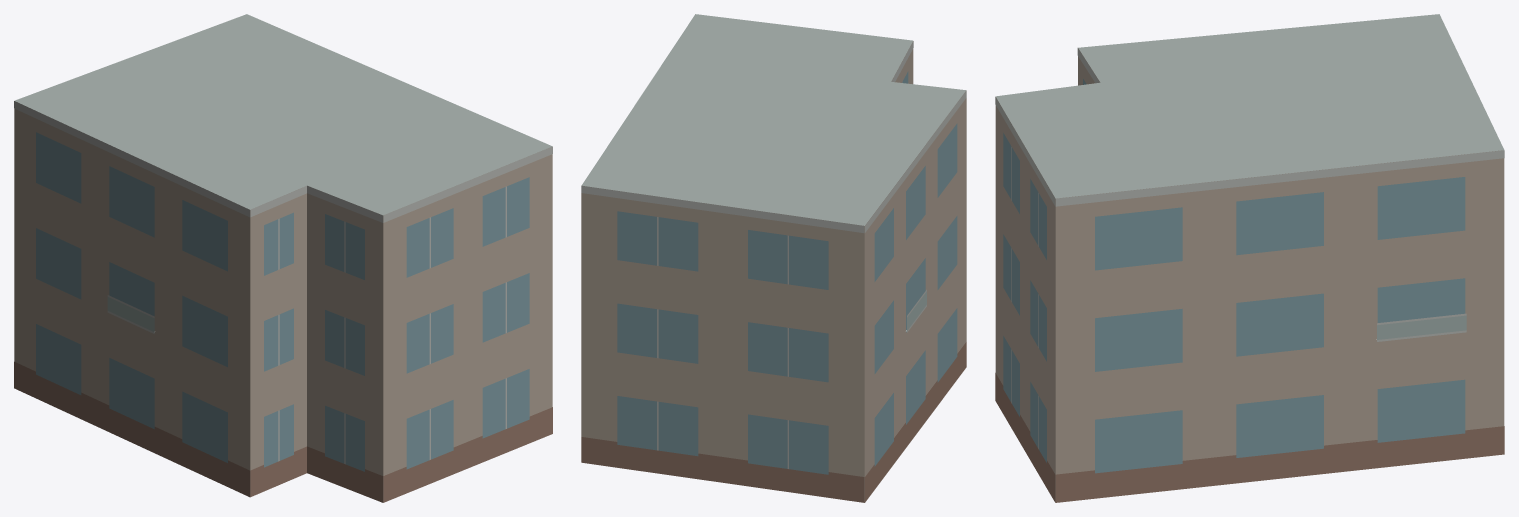
File: residential-b4a7fdfd-9202-4bb8-8a11-c3450bda555b.glb
The picture shows the model from 3 angles, left to right: view 1: azimuth 30°, elevation 25°; view 2: azimuth 150°, elevation 25°; view 3: azimuth 270°, elevation 25°; orthographic projection. The views are drawn at different scales.
Parts seen in each view (by area): view 1: residential-b4a7fdfd-9202-4bb8-8a11-c3450bda555b.tmp; view 2: residential-b4a7fdfd-9202-4bb8-8a11-c3450bda555b.tmp; view 3: residential-b4a7fdfd-9202-4bb8-8a11-c3450bda555b.tmp.
Boxes of the visible parts, x1=… form: residential-b4a7fdfd-9202-4bb8-8a11-c3450bda555b.tmp: x1=14, y1=14, x2=552, y2=502; residential-b4a7fdfd-9202-4bb8-8a11-c3450bda555b.tmp: x1=581, y1=14, x2=966, y2=502; residential-b4a7fdfd-9202-4bb8-8a11-c3450bda555b.tmp: x1=995, y1=14, x2=1504, y2=502.
Bounding box in the file's own units: 11.91 × 9.15 × 13.88.
